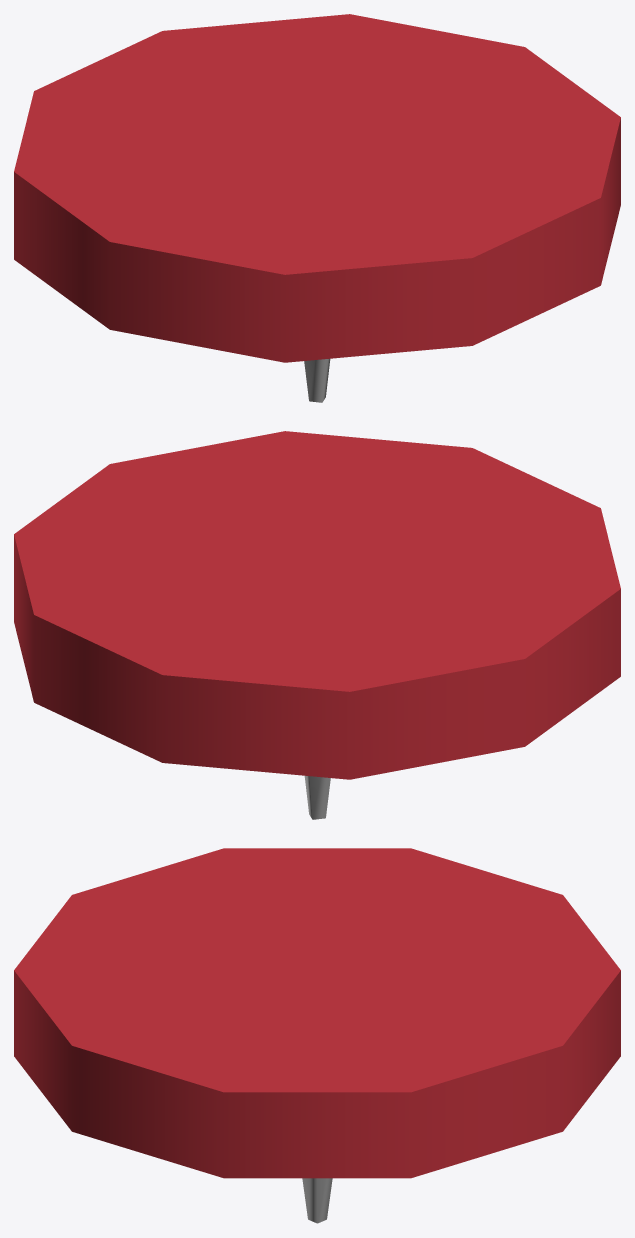
File: thumbtack.glb
3 views of the same model, one above another, from view 1: azimuth 30°, elevation 25°; view 2: azimuth 150°, elevation 25°; view 3: azimuth 270°, elevation 25° (orthographic). The views are drawn at different scales.
Parts seen in each view (by area): view 1: body; view 2: body; view 3: body.
Boxes of the visible parts, box(x1,y1,x2,y2) form: body: box(14, 14, 620, 402); body: box(14, 431, 620, 819); body: box(14, 848, 620, 1223).
Size of the model in its own units: 0.3043 by 0.145 by 0.32.
